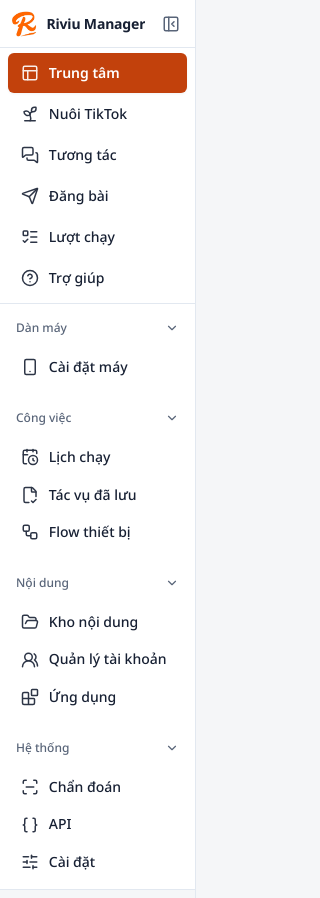
Scenario: Sidebar information architecture › collapses Công việc while preserving the three original destinations
The width and height of the screenshot is (320, 898).
Click the button "Công việc".
click(98, 418)  # box [16,402,179,434]
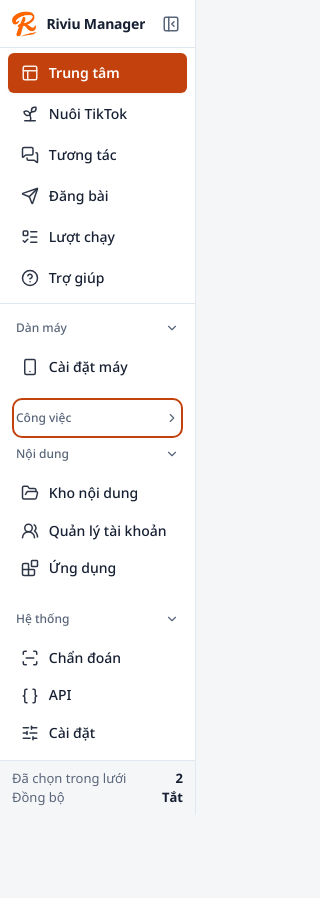
Expected: the button "Nuôi TikTok" is shown, [8,94,187,134]
Now the button "Lịch chạy" is gone
Click the button "Công việc".
click(98, 418)  # box [16,402,179,434]
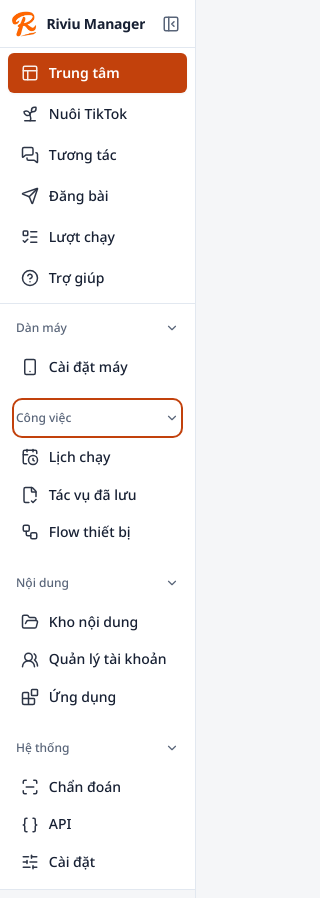
Expected: the button "Nuôi TikTok" is shown, [8,94,187,134]
Now the button "Lịch chạy" is shown, box [8,439,187,476]
